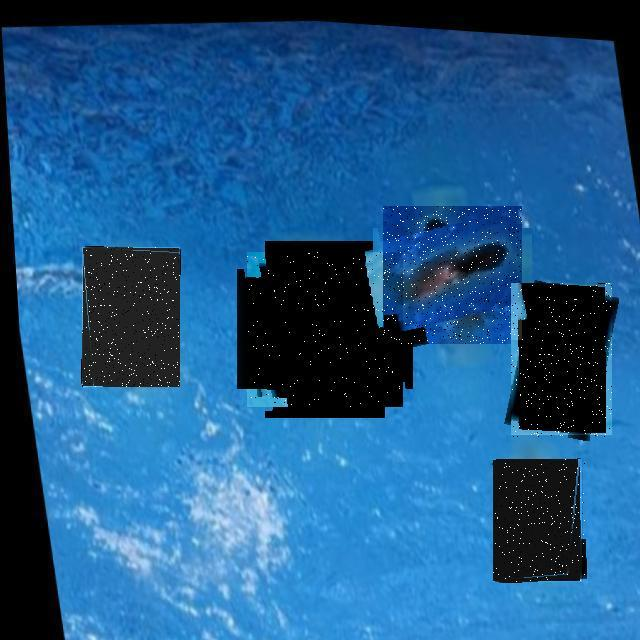swimming: (247, 252, 403, 407), (383, 206, 522, 344), (511, 284, 612, 438), (82, 247, 180, 387), (494, 459, 586, 582)
